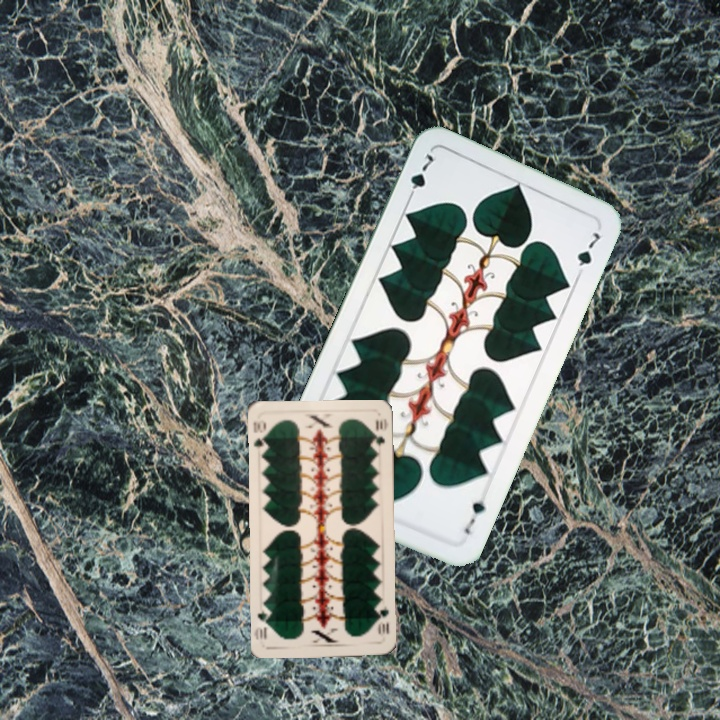G10: (249, 416, 269, 455), (373, 601, 391, 637)
G7: (403, 149, 437, 204), (460, 495, 488, 537)
